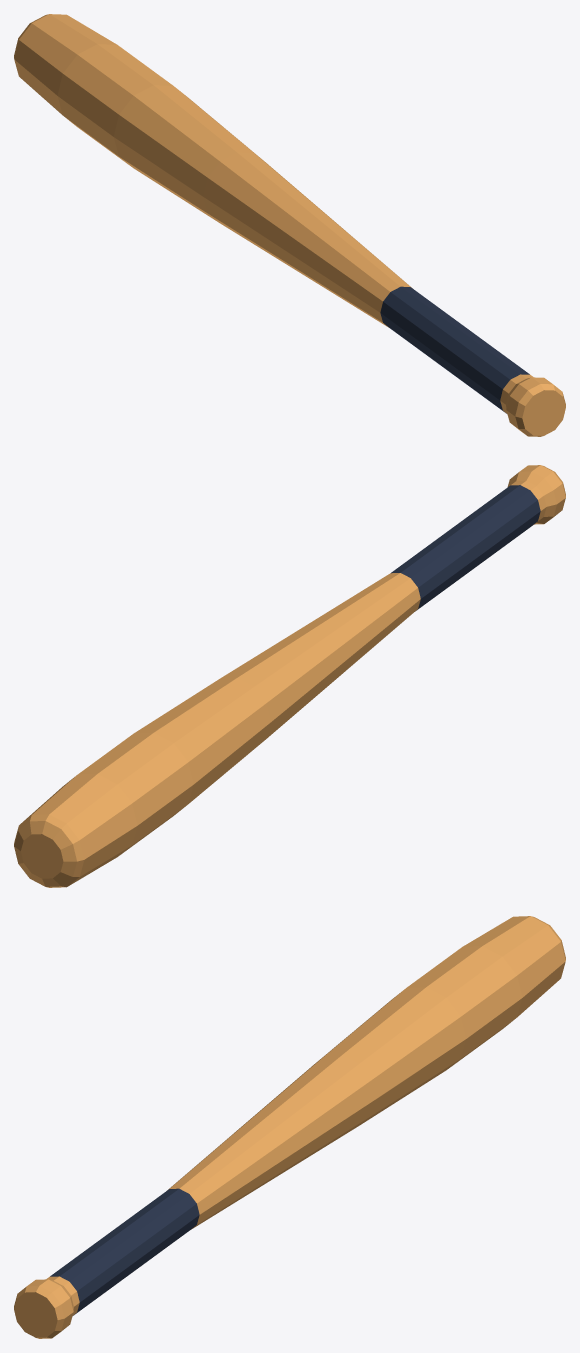
Rendered from Baseball bat.fbx.
3 renders of one model, top to bottom at view 1: azimuth 30°, elevation 25°; view 2: azimuth 150°, elevation 25°; view 3: azimuth 330°, elevation 25°, orthographic.
Visible parts, largest first — view 1: Bat; view 2: Bat; view 3: Bat.
Boxes of the visible parts, left/top/right/bottom form: Bat: left=14, top=14, right=565, bottom=436; Bat: left=14, top=465, right=565, bottom=887; Bat: left=14, top=916, right=565, bottom=1338.
Bounding box in the file's own units: 228 × 228 × 2477.
